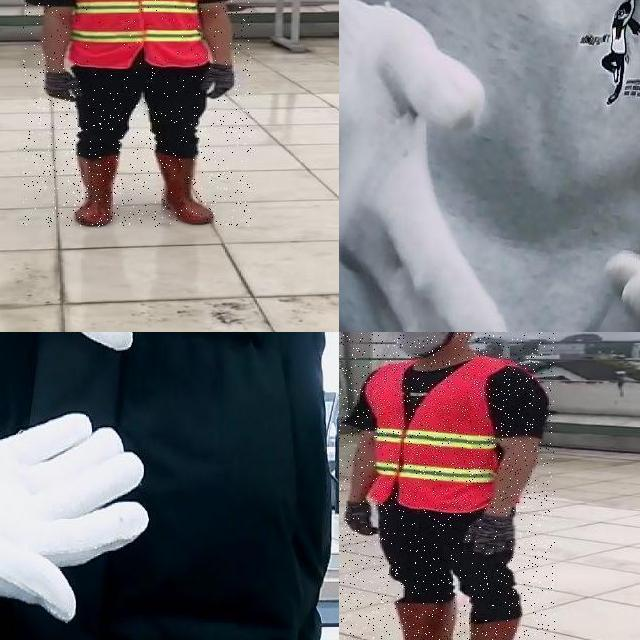BOOTS: (154, 154, 218, 224), (361, 601, 459, 640), (72, 150, 118, 227), (446, 616, 521, 640)
GLOVE: (339, 0, 513, 332), (0, 410, 150, 627), (463, 512, 515, 554), (345, 497, 382, 536), (44, 68, 83, 101), (203, 62, 235, 99)
VEST: (361, 360, 535, 514), (65, 0, 215, 69)
